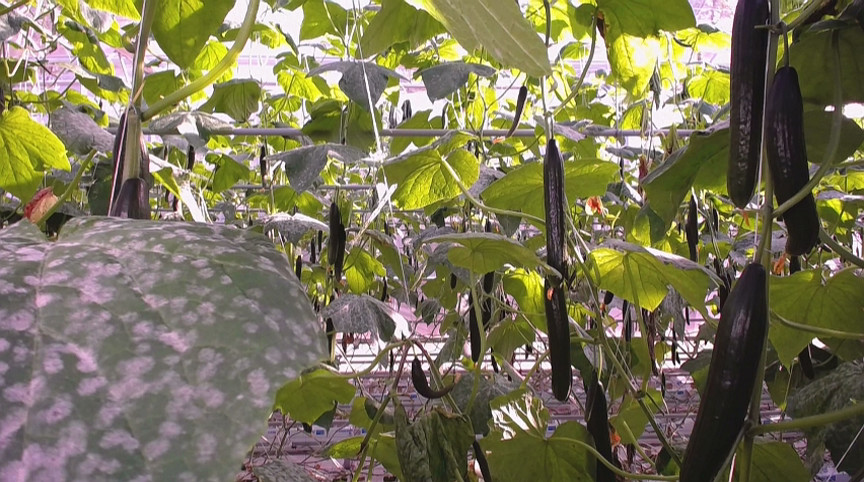cucumber: (681, 263, 769, 482), (767, 65, 820, 257), (727, 1, 770, 207), (543, 286, 571, 403), (546, 136, 565, 289), (586, 381, 614, 482), (108, 178, 153, 223), (328, 202, 340, 265)
